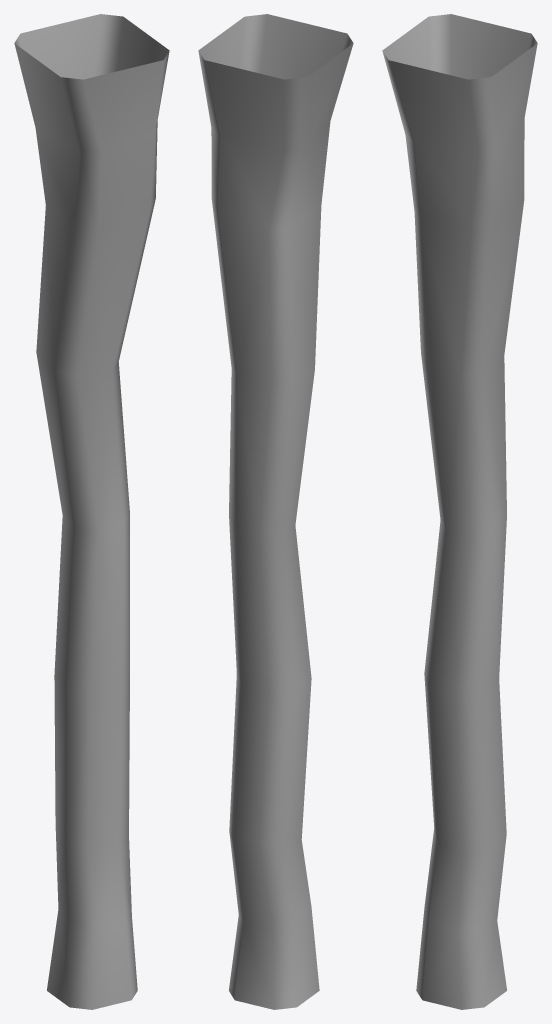
File: PillarCheap.FBX
3 renders of one model, left to right at view 1: azimuth 30°, elevation 25°; view 2: azimuth 150°, elevation 25°; view 3: azimuth 330°, elevation 25°, orthographic.
Visible parts, largest first — view 1: PillarCheap; view 2: PillarCheap; view 3: PillarCheap.
Part boxes in pixels (left/top/right/bottom): PillarCheap: left=14, top=14, right=169, bottom=1009; PillarCheap: left=198, top=14, right=353, bottom=1009; PillarCheap: left=382, top=14, right=537, bottom=1009.
Bounding box in the file's own units: 38.66 × 38.66 × 320.
1 material, 1 textured.
